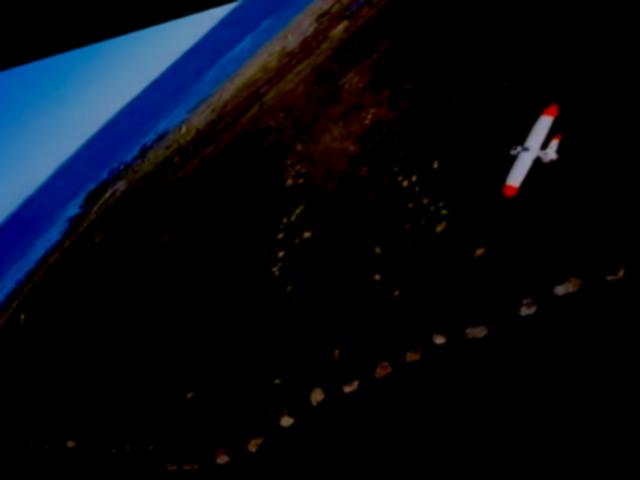uav: (486, 104, 578, 206)
